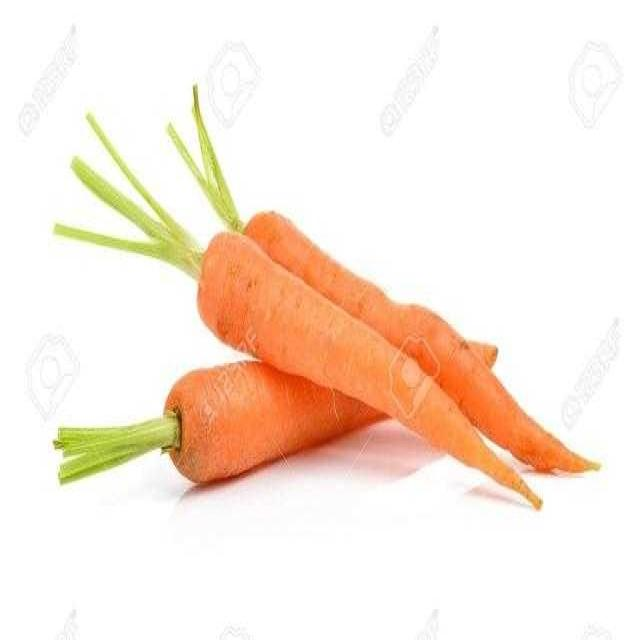carrots: (170, 193, 596, 530), (144, 362, 493, 485)
